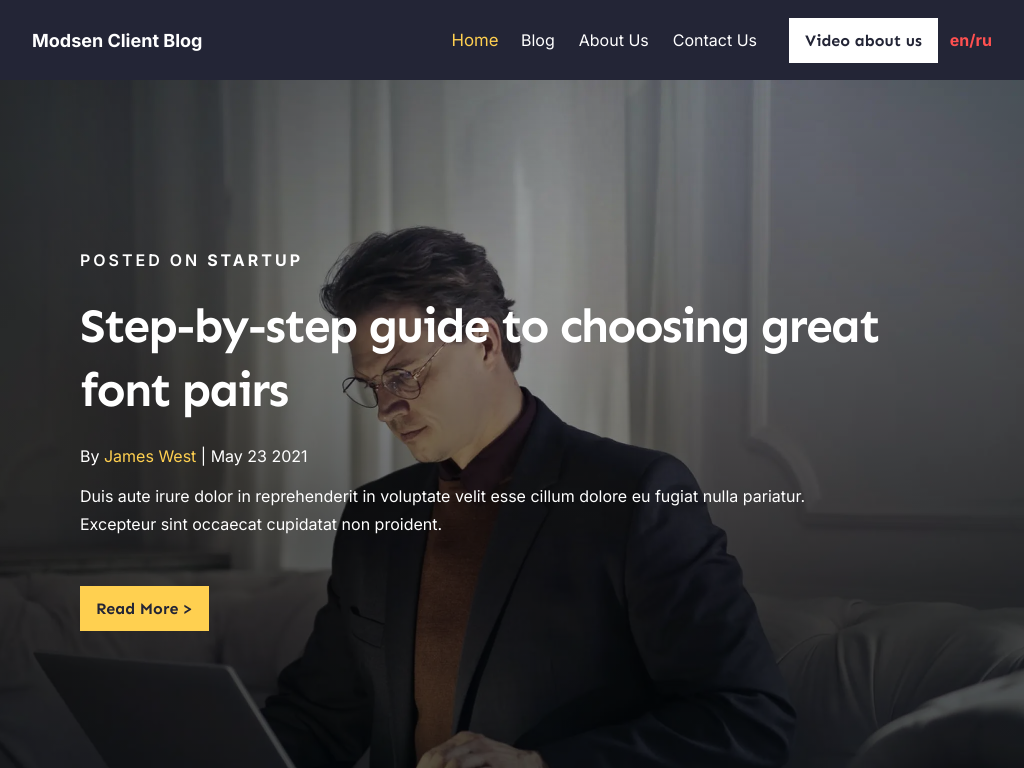
Scenario: Renders Navbar › Should test language switcher
expect the heading "Modsen Client Blog" is shown: met, box left=32, top=30, right=202, bottom=50
Click the link with test id "languageSwitcher": (971, 40) left=950, top=30, right=992, bottom=50
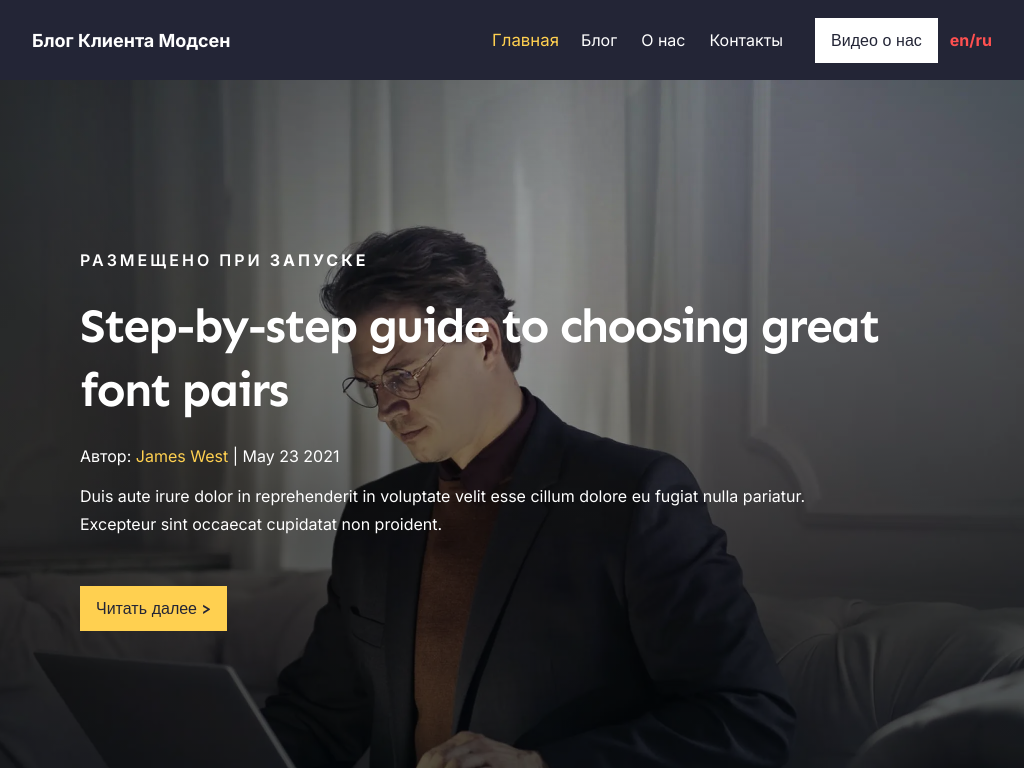
expect the heading "Блог Клиента Модсен" is shown: met, box left=32, top=30, right=230, bottom=50
Click the link with test id "languageSwitcher": (971, 40) left=950, top=30, right=992, bottom=50
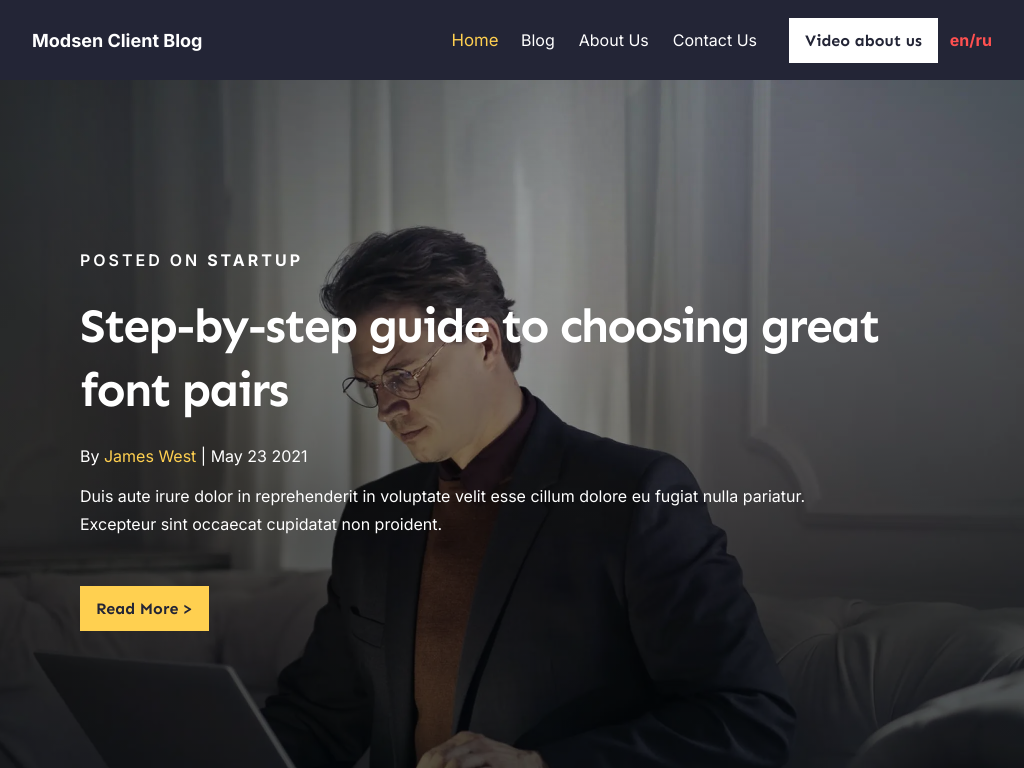
expect the heading "Modsen Client Blog" is shown: met, box left=32, top=30, right=202, bottom=50
